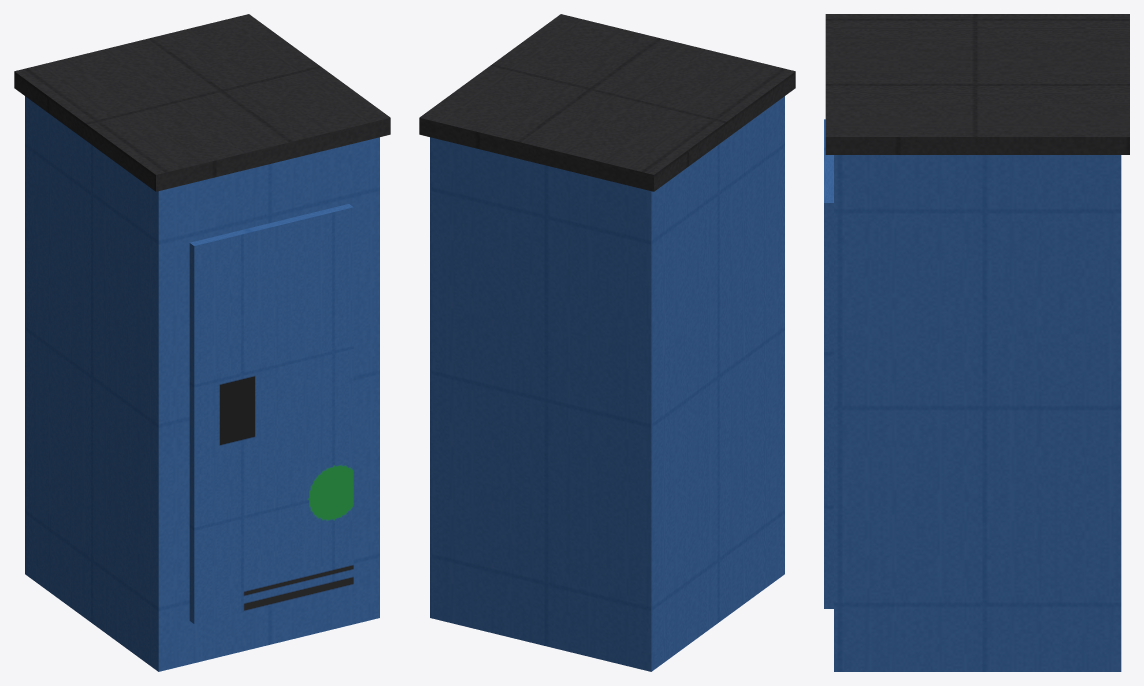
File: portapotty_blue.dae
3 renders of one model, left to right at view 1: azimuth 30°, elevation 25°; view 2: azimuth 150°, elevation 25°; view 3: azimuth 270°, elevation 25°, orthographic. The views are drawn at different scales.
Visible parts, largest first — view 1: body, door, roof; view 2: body, roof; view 3: body, roof, door.
Part boxes in pixels (bbox=[...]): body: bbox=[25, 96, 379, 671]; door: bbox=[189, 204, 353, 623]; roof: bbox=[14, 14, 390, 191]; body: bbox=[430, 96, 784, 671]; roof: bbox=[419, 14, 795, 191]; body: bbox=[834, 155, 1121, 671]; roof: bbox=[825, 14, 1129, 154]; door: bbox=[824, 119, 833, 608].
Bounding box in the file's own units: 1.17 × 1.22 × 2.38.
4 materials, 3 textured.
